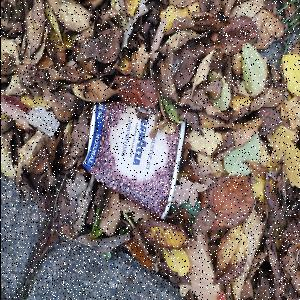Cup: (81, 98, 187, 227)
